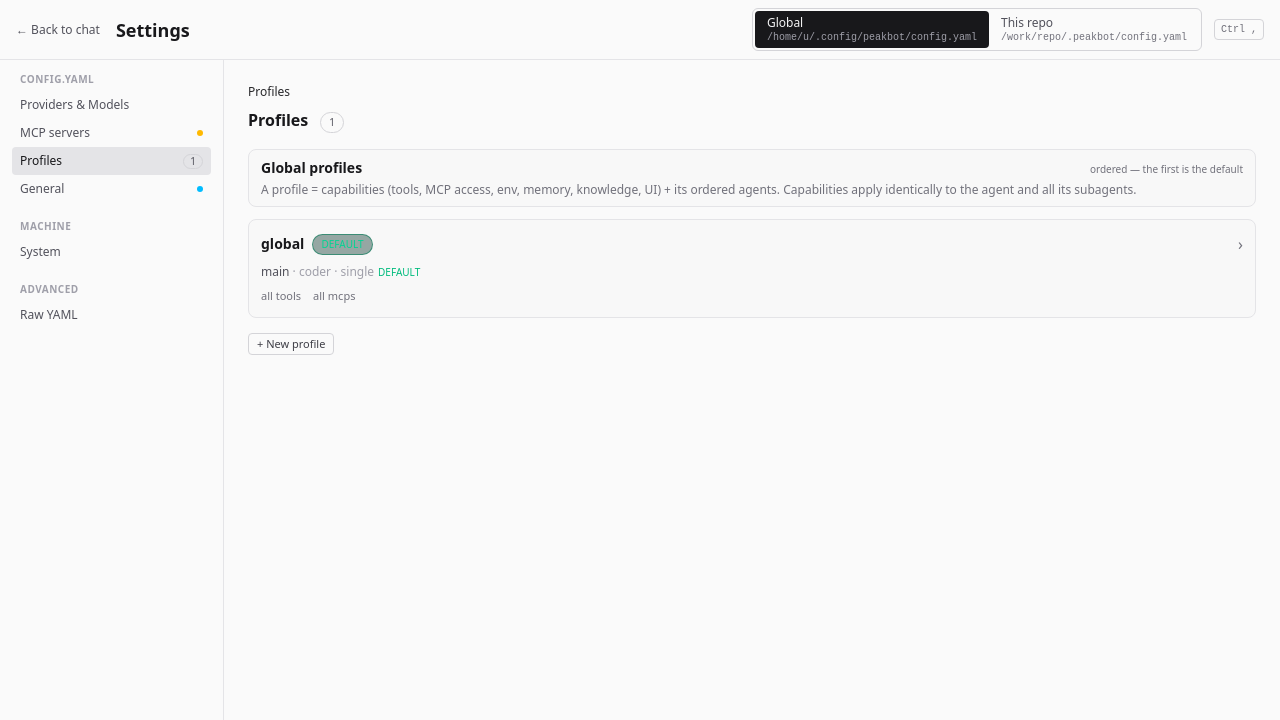
Test case: repo scope: global-only sections (T34b fix 2) › providers_in_repo_scope_show_the_global_values_read_only
This screenshot has width=1280, height=720.
Click the button "This repo /work/repo/.peakbot/config.yaml". click: point(1094, 30)
box: [989,11,1199,48]
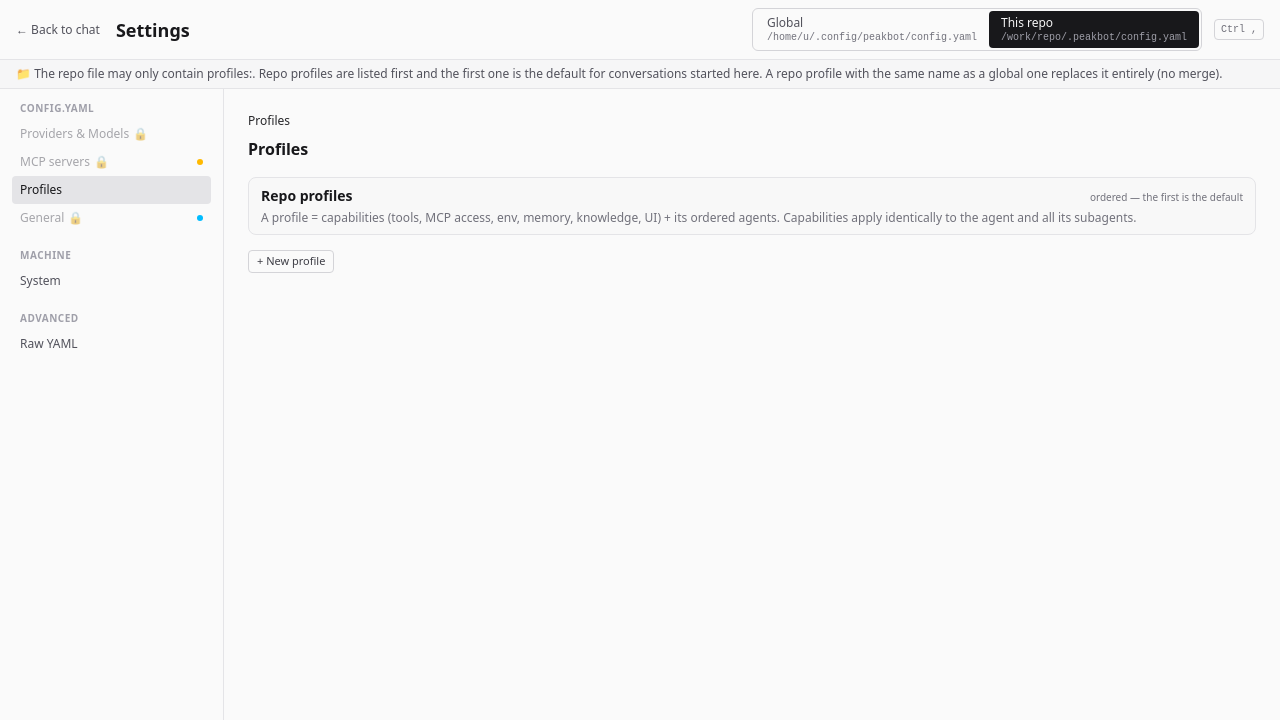
Click the button "Providers & Models🔒". click: point(112, 134)
box: [12,120,211,148]
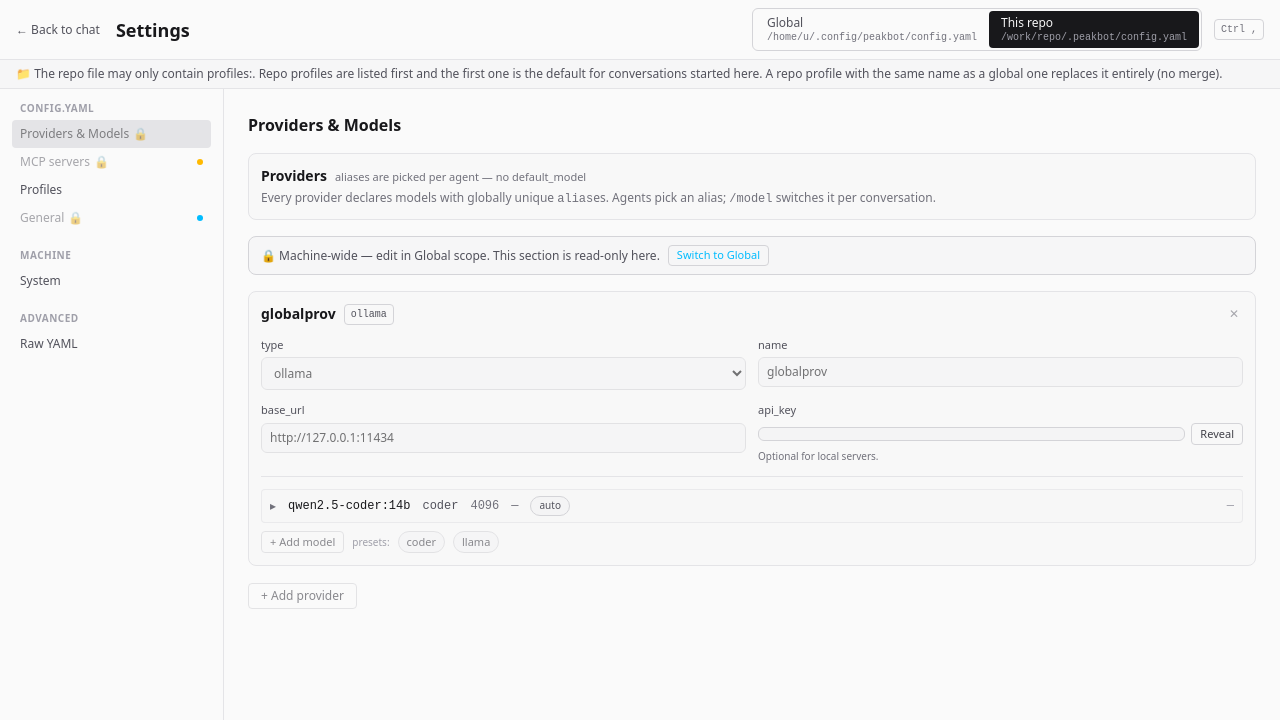
Now the button "Switch to Global" is shown, box [668,245,769,266]
